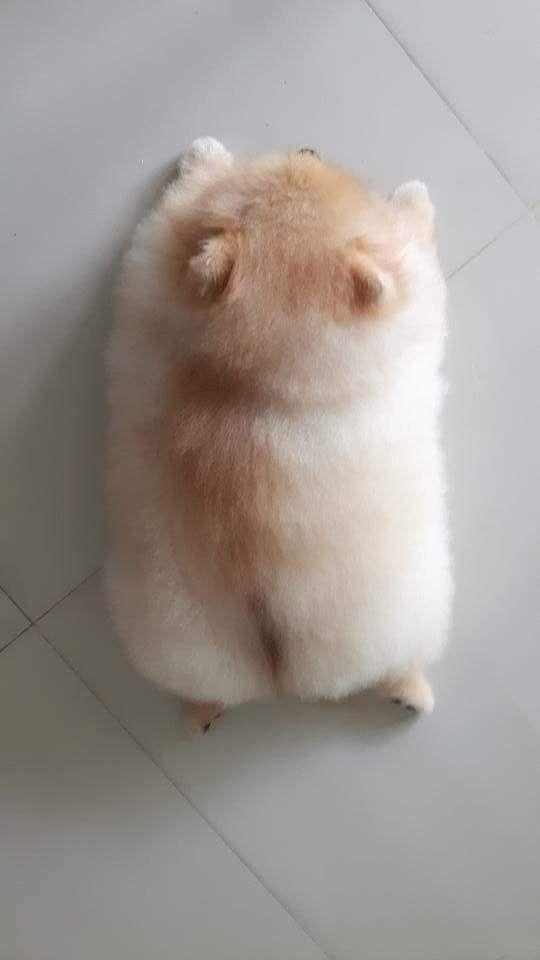adult_dog: (99, 132, 458, 741)
